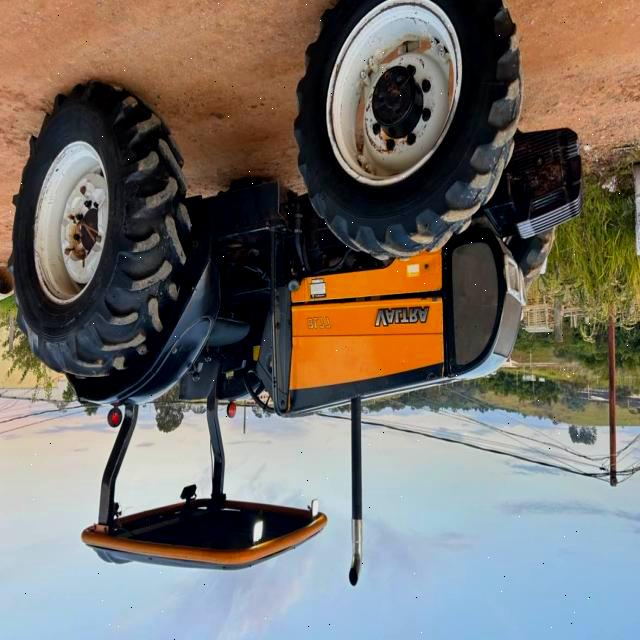Tratores - v5 YOLO V8L 2024-11-13: (13, 0, 580, 590)
